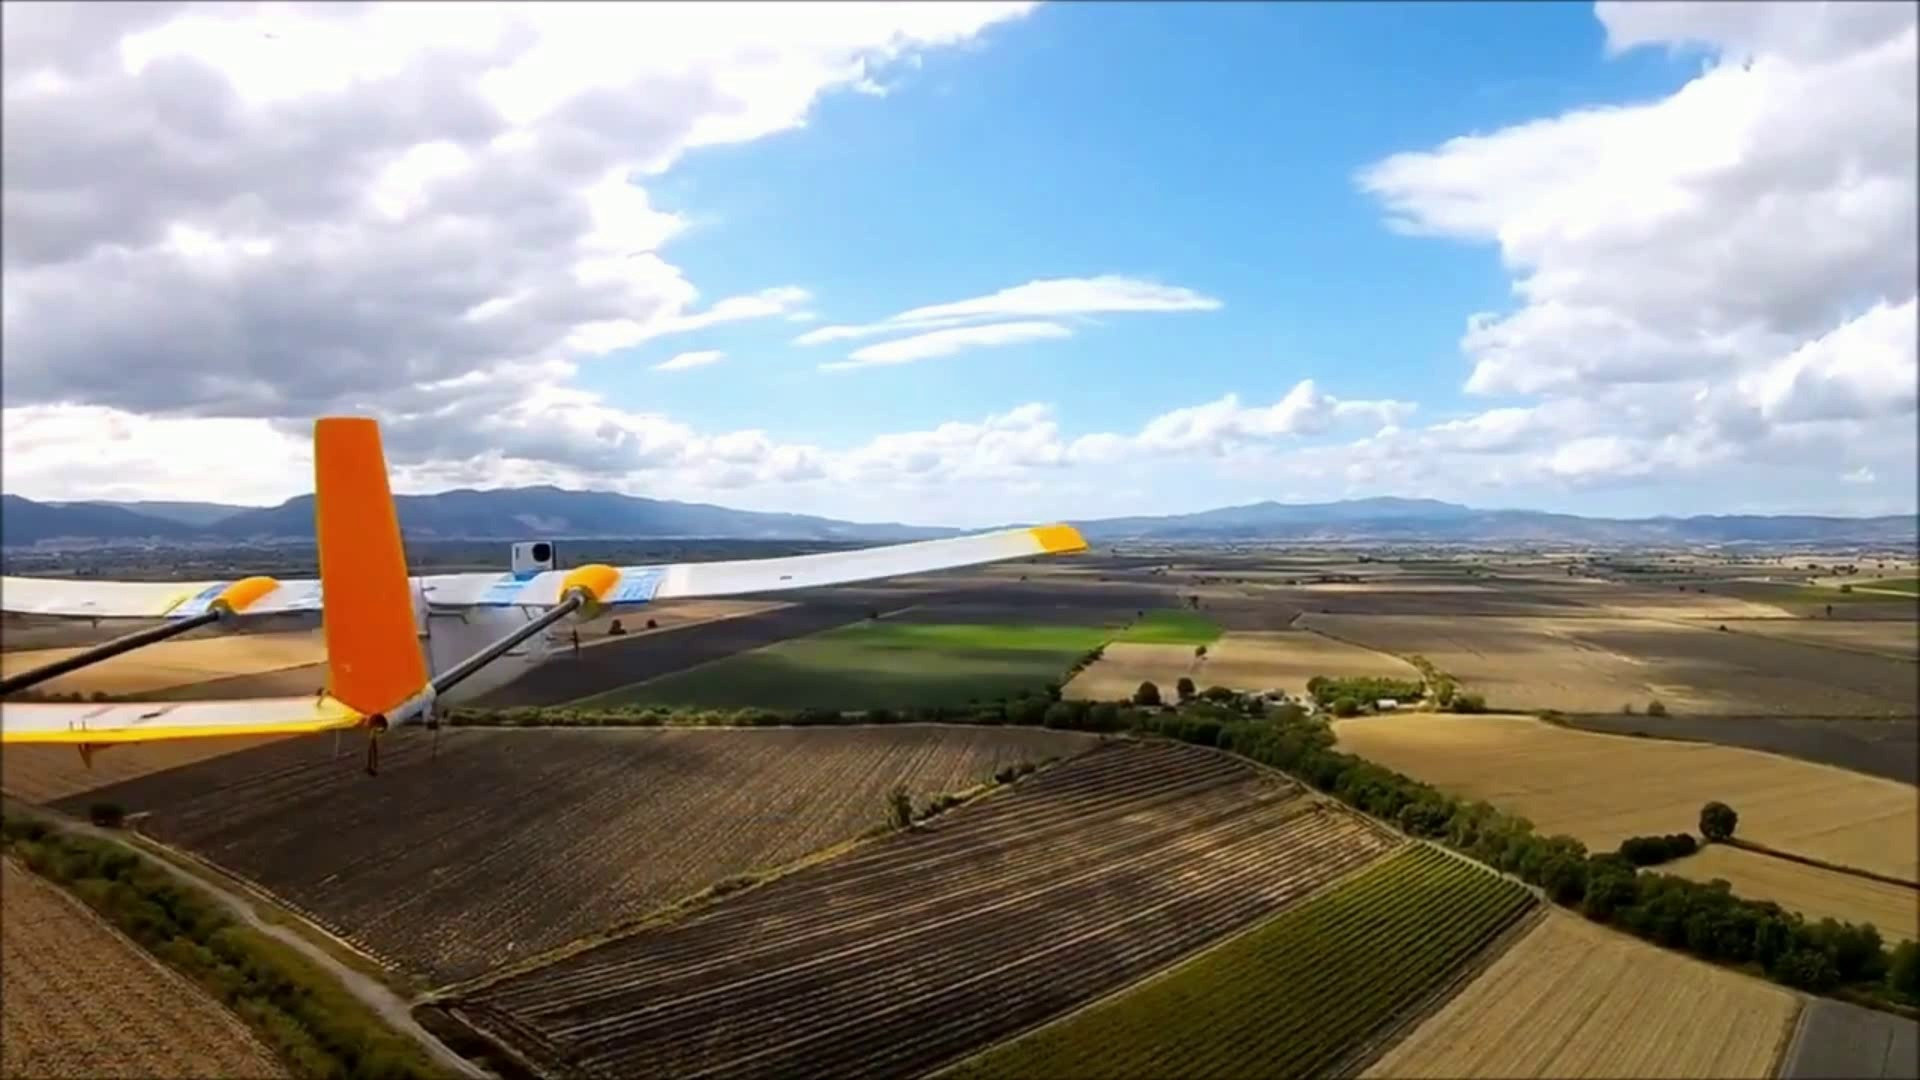airplane: (4, 413, 1100, 793)
